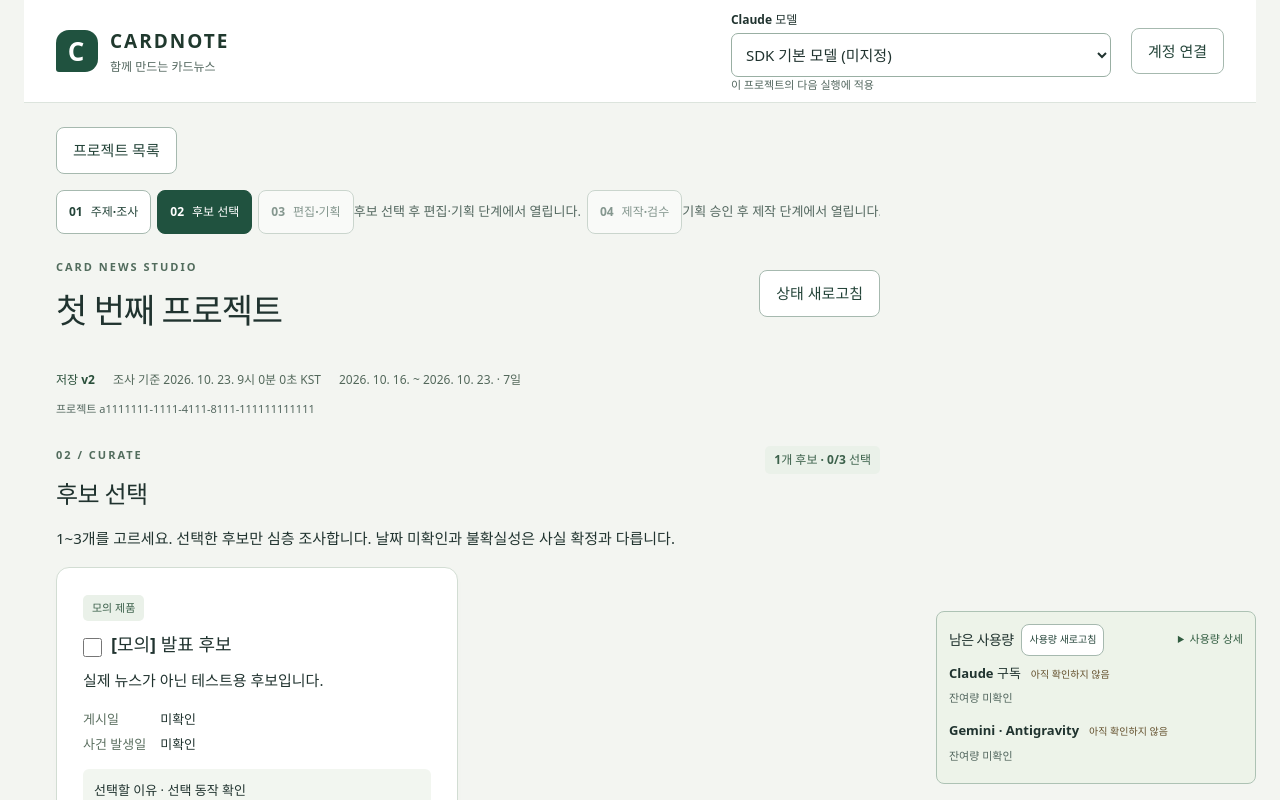
Test: 전환 후 돌아와도 후보 미제출 선택을 프로젝트별로 보존한다
Click the checkbox labelled "[모의] 발표 후보" at [92, 647], box [83,638,102,657]
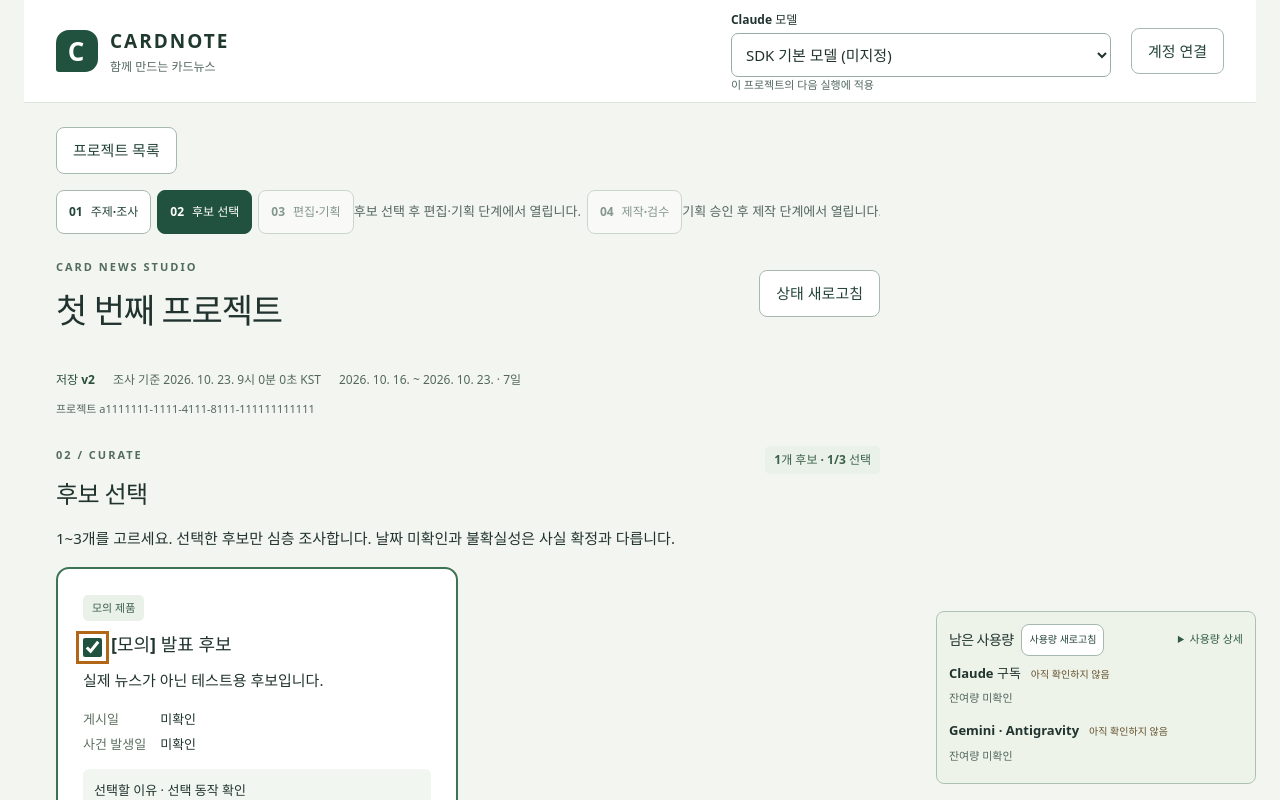
Click the button "프로젝트 목록" at [116, 151], box [56,127,177,174]
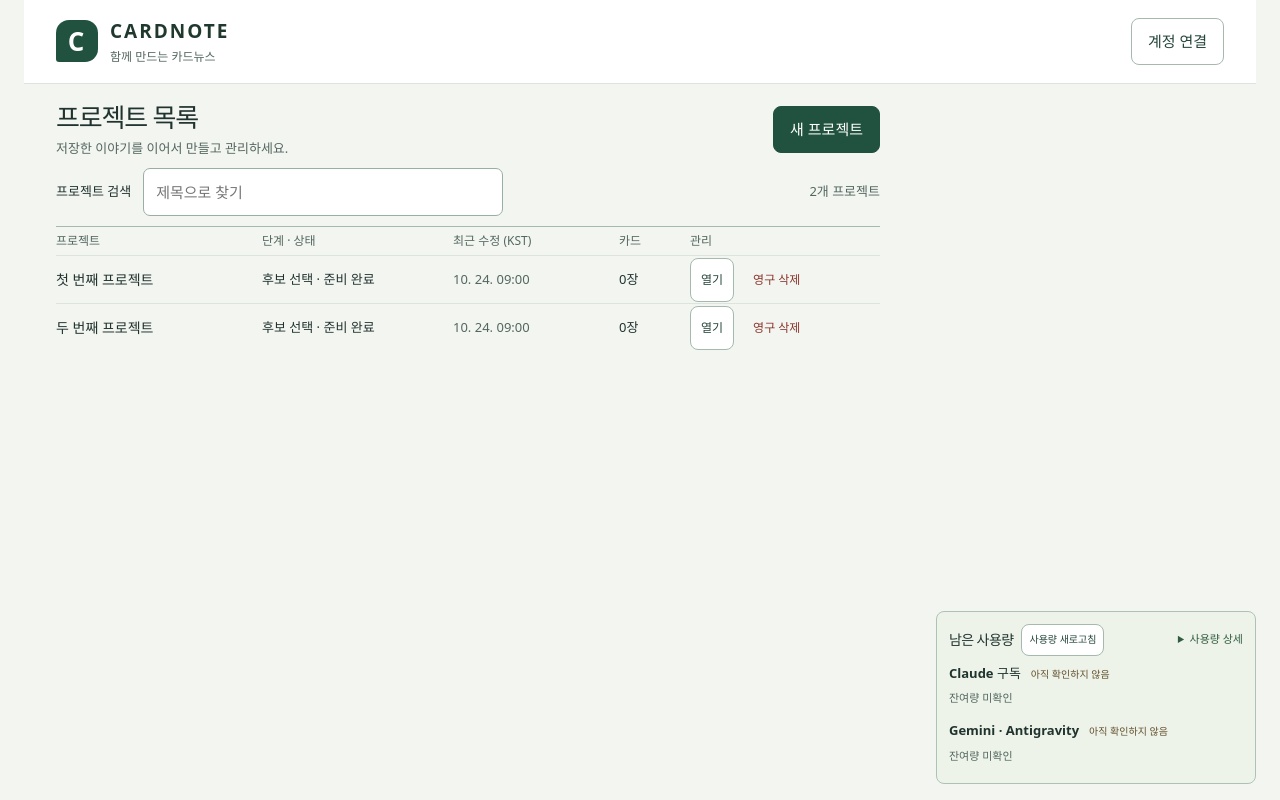
Click the button "열기" in the row of "두 번째 프로젝트" at [712, 328], box [690,306,734,350]
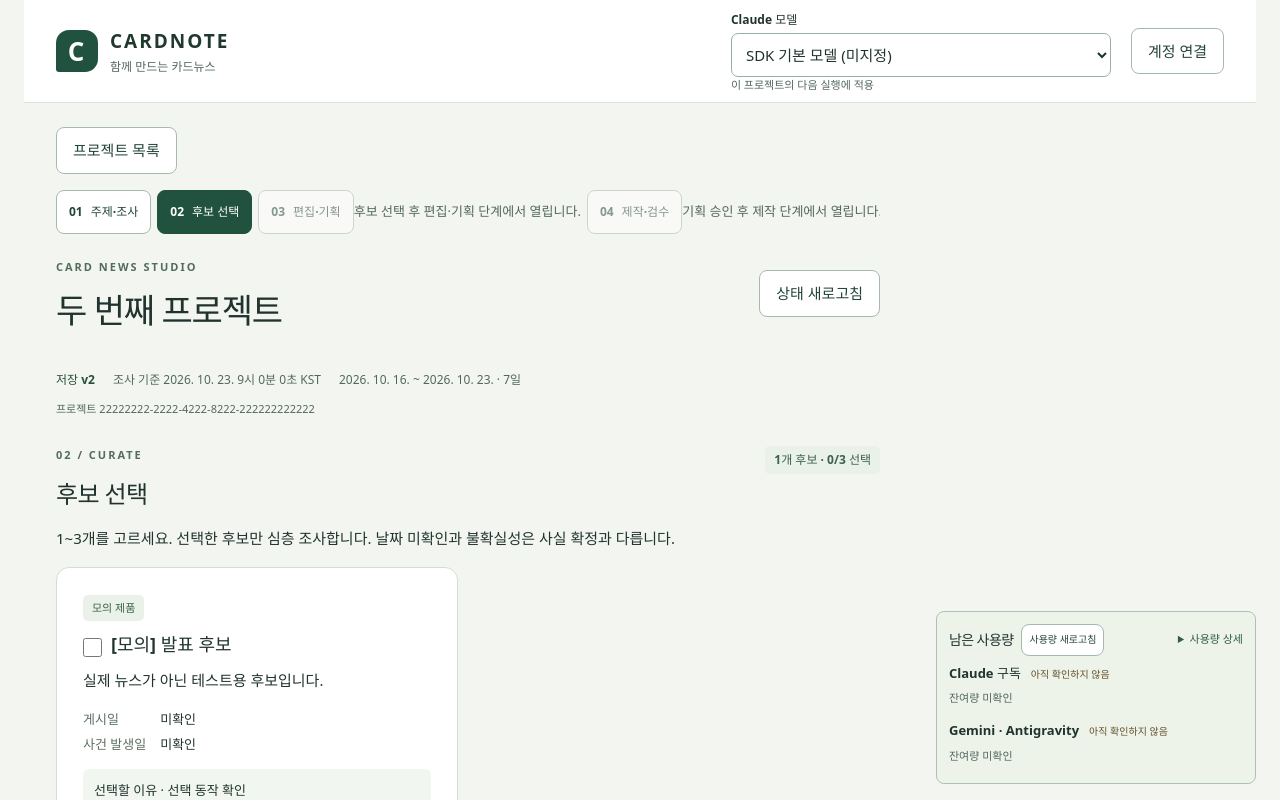
Check: the heading "두 번째 프로젝트" is shown, box [56,288,282,334]
Check: the checkbox labelled "[모의] 발표 후보" is not checked, box [83,638,102,657]
Click the button "프로젝트 목록" at [116, 151], box [56,127,177,174]
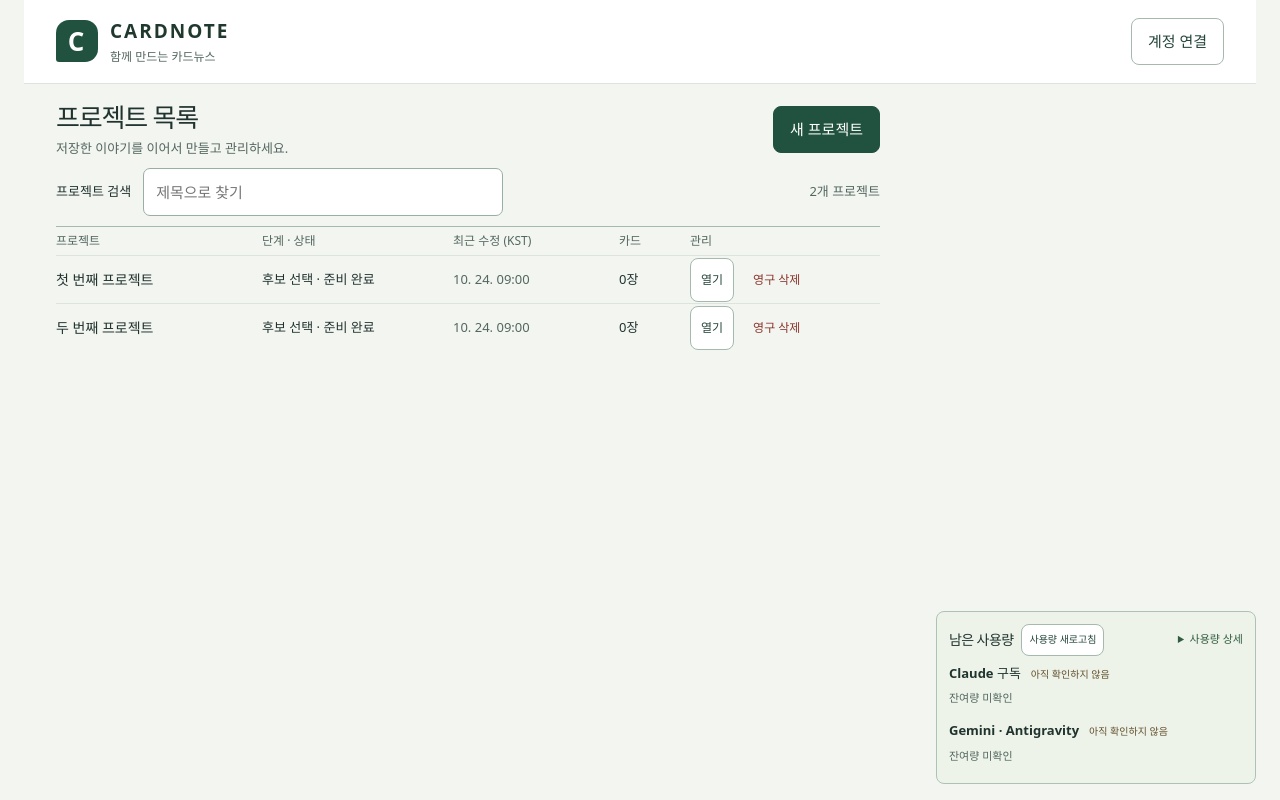
Click the button "열기" in the row of "첫 번째 프로젝트" at [712, 280], box [690,258,734,302]
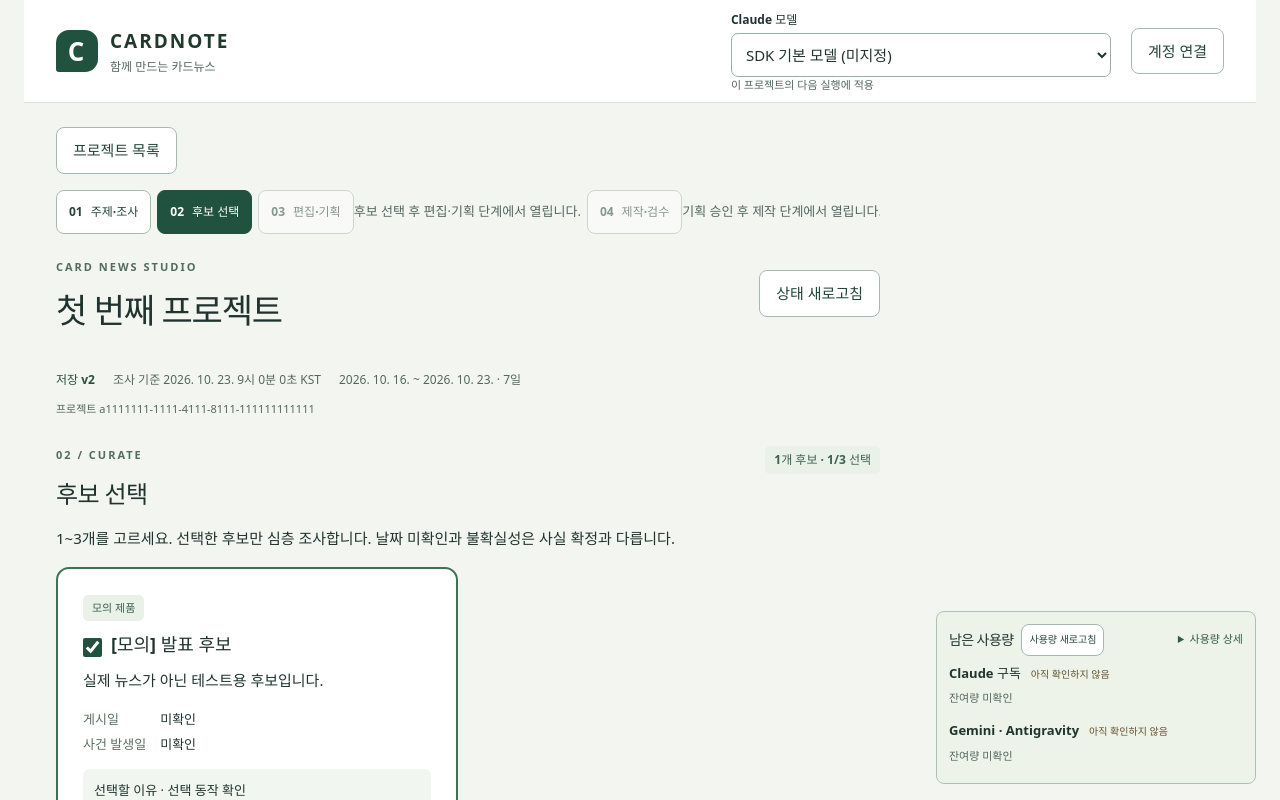
Check: the heading "첫 번째 프로젝트" is shown, box [56,288,282,334]
Check: the checkbox labelled "[모의] 발표 후보" is checked, box [83,638,102,657]
